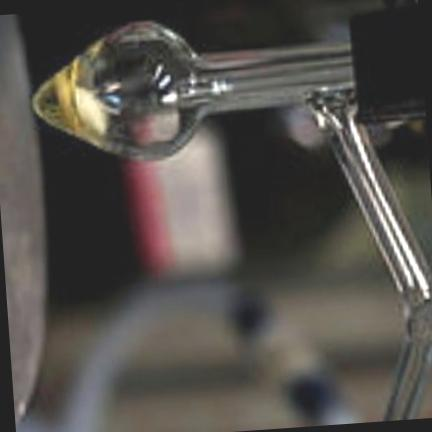container: (31, 20, 354, 159)
fluid: (34, 56, 88, 142)
fluid-surface: (76, 51, 100, 145)
